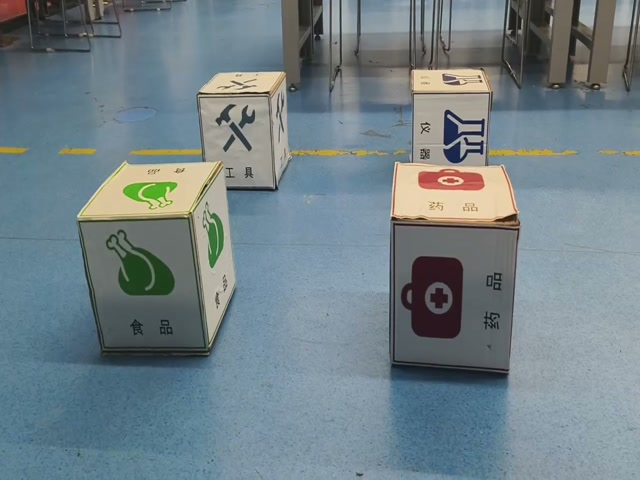Cube_food: (81, 157, 224, 223)
Cube_ins: (412, 67, 490, 97)
Cube_medicine: (389, 158, 518, 234)
Cube_tool: (198, 68, 283, 100)
